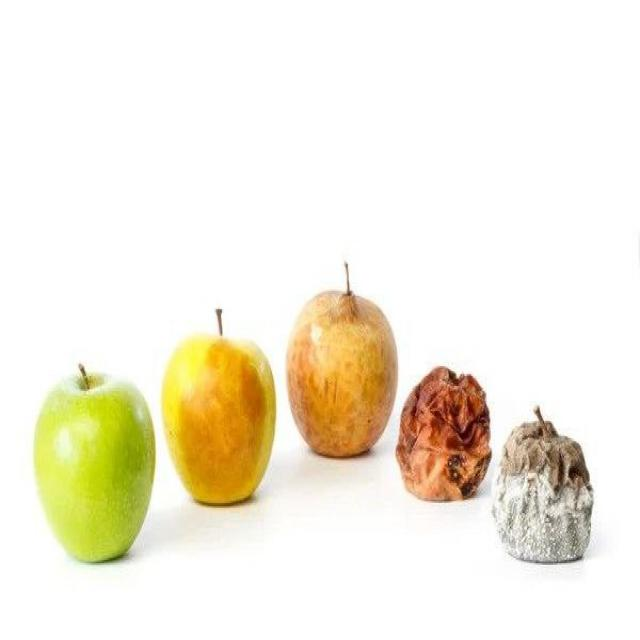fresh_apple: (34, 369, 154, 562)
rotten_apple: (160, 332, 278, 507), (290, 287, 395, 457), (397, 351, 492, 505), (495, 423, 596, 565)
